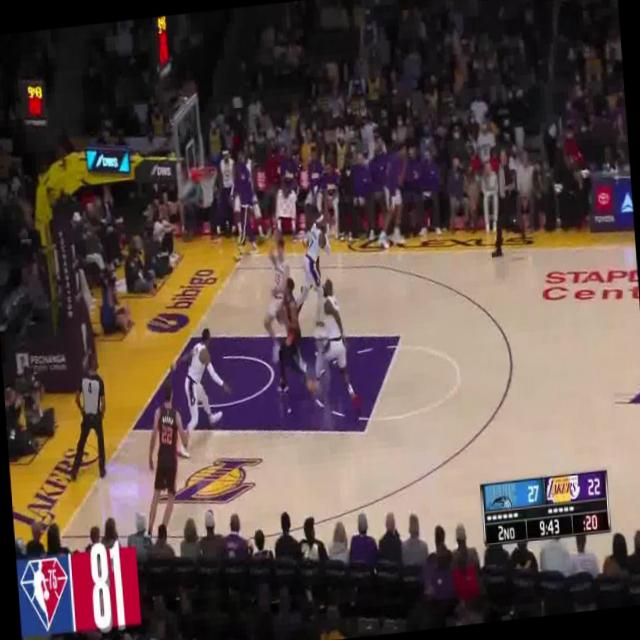ball-handler: (270, 270, 312, 405)
